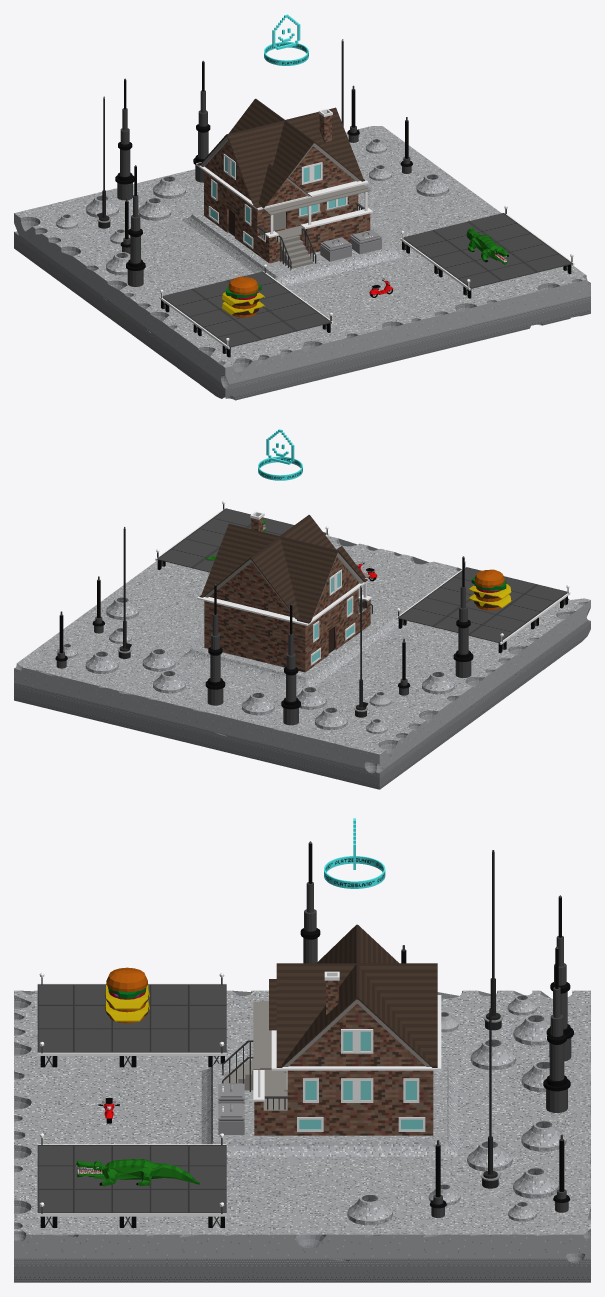
3 renders of one model, top to bottom at view 1: azimuth 30°, elevation 25°; view 2: azimuth 150°, elevation 25°; view 3: azimuth 270°, elevation 25°, orthographic. The views are drawn at different scales.
Parts seen in each view (by area): view 1: Cube.027, Cube.117, Cube.026, Cube.025, Cube.028, OBJRANDOM_HAMBURGER, Cylinder.021, Cylinder.020, Cylinder.017, TYPE_PREMIUM, ANIMAL_COCODRILO, Cube.029 (+4 smaller); view 2: Cube.027, Cube.117, Cube.025, Cube.028, Cube.026, OBJRANDOM_HAMBURGER, Cylinder.017, Cylinder.021, Cylinder.020, TYPE_PREMIUM, Cylinder.030, Cylinder.029 (+7 smaller); view 3: Cube.027, Cube.117, Cube.025, Cube.026, Cube.028, OBJRANDOM_HAMBURGER, Cylinder.017, ANIMAL_COCODRILO, Cylinder.020, Cylinder.021, TYPE_PREMIUM, Cylinder.033 (+11 smaller).
Boxes of the visible parts, x1,y1,x2,y2 form: Cube.027: (14, 126, 590, 400); Cube.117: (196, 98, 372, 269); Cube.026: (400, 205, 574, 298); Cube.025: (159, 264, 333, 357); Cube.028: (182, 211, 403, 286); OBJRANDOM_HAMBURGER: (222, 276, 265, 317); Cylinder.021: (126, 165, 145, 286); Cylinder.020: (115, 78, 134, 200); Cylinder.017: (193, 60, 210, 182); TYPE_PREMIUM: (264, 14, 308, 65); ANIMAL_COCODRILO: (466, 227, 508, 264); Cube.029: (320, 237, 351, 261); Cube.027: (14, 536, 590, 789); Cube.117: (197, 511, 372, 672); Cube.025: (396, 560, 570, 653); Cube.028: (181, 610, 398, 688); Cube.026: (155, 501, 329, 572); OBJRANDOM_HAMBURGER: (468, 569, 511, 610); Cylinder.017: (205, 583, 225, 705); Cylinder.021: (453, 556, 473, 677); Cylinder.020: (281, 603, 300, 725); TYPE_PREMIUM: (258, 429, 302, 480); Cylinder.030: (142, 648, 175, 671); Cylinder.029: (153, 670, 185, 693); Cube.027: (14, 990, 590, 1282); Cube.117: (222, 924, 441, 1135); Cube.025: (37, 973, 226, 1067); Cube.026: (37, 1133, 226, 1227); Cube.028: (201, 1063, 457, 1156); OBJRANDOM_HAMBURGER: (104, 967, 149, 1023); Cylinder.017: (543, 946, 570, 1112); ANIMAL_COCODRILO: (76, 1159, 199, 1186); Cylinder.020: (546, 895, 573, 1061); Cylinder.021: (300, 841, 320, 963); TYPE_PREMIUM: (324, 818, 385, 888); Cylinder.033: (347, 1194, 392, 1225).
Size of the model in its own units: 4000 by 2719 by 4000.
Materials: 40 (6 with a texture image).
